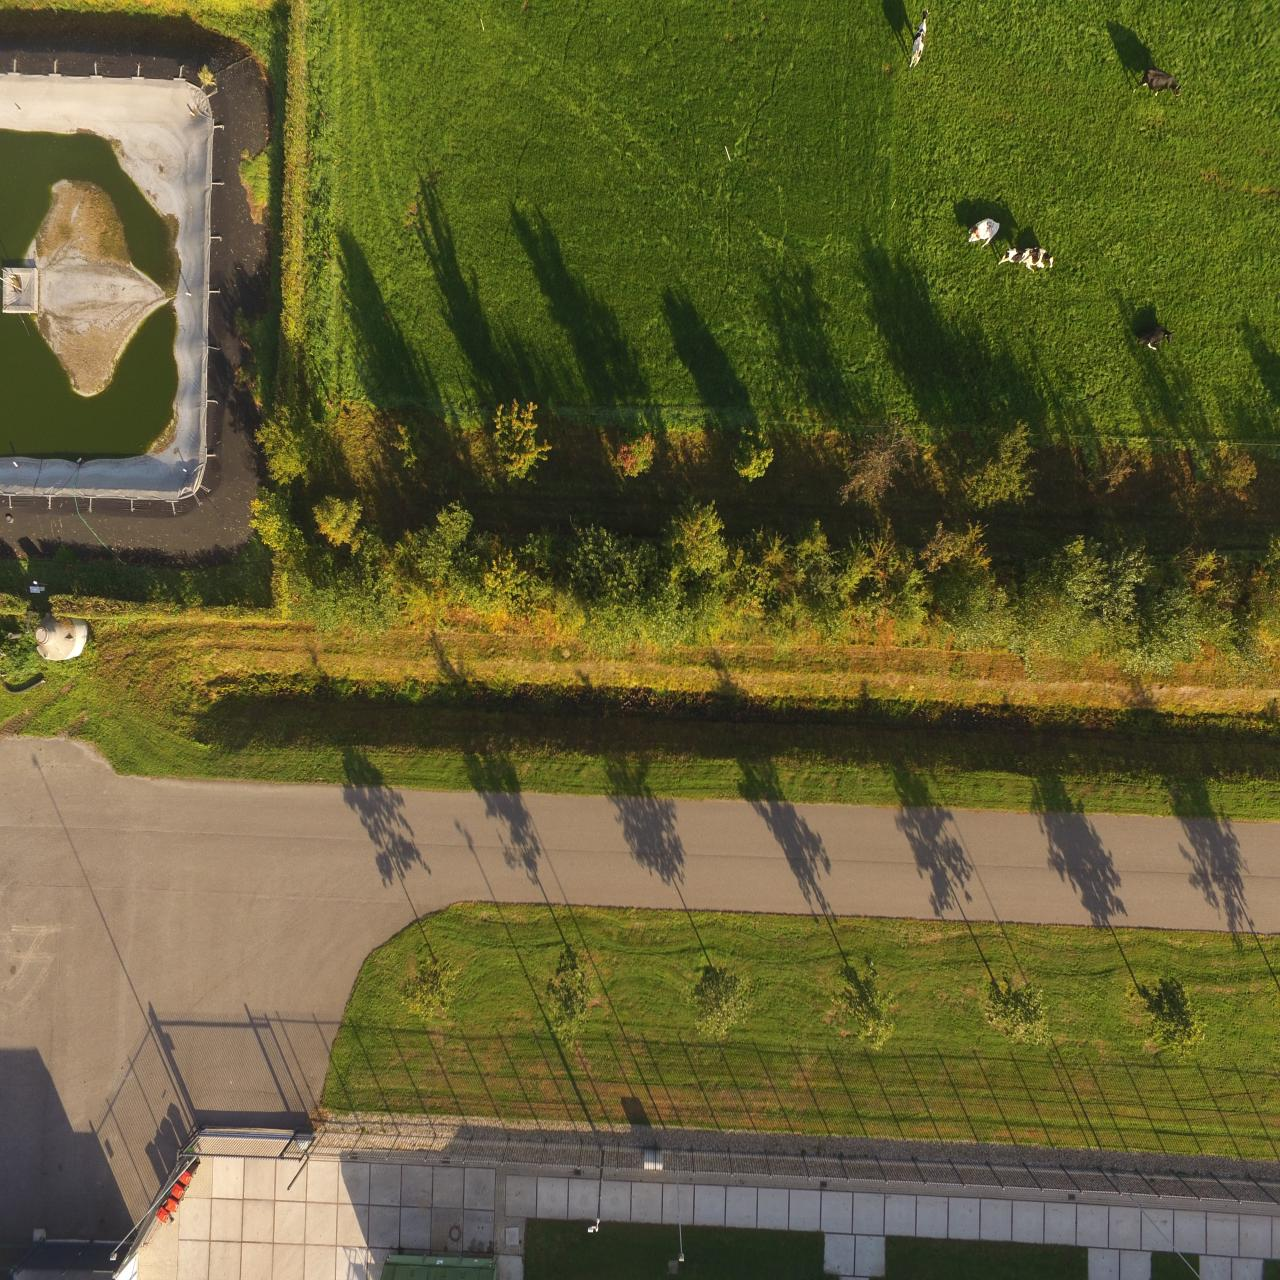cow: (895, 7, 938, 79), (1130, 58, 1192, 105), (956, 216, 1011, 252), (1132, 318, 1178, 357), (1020, 240, 1057, 276), (998, 244, 1041, 270)
